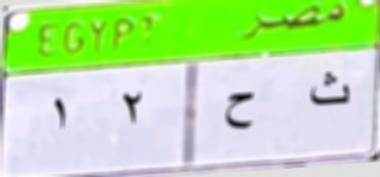1: (43, 92, 80, 140)
2: (107, 87, 156, 130)
7aa: (216, 81, 266, 143)
thaa: (307, 69, 356, 122)
